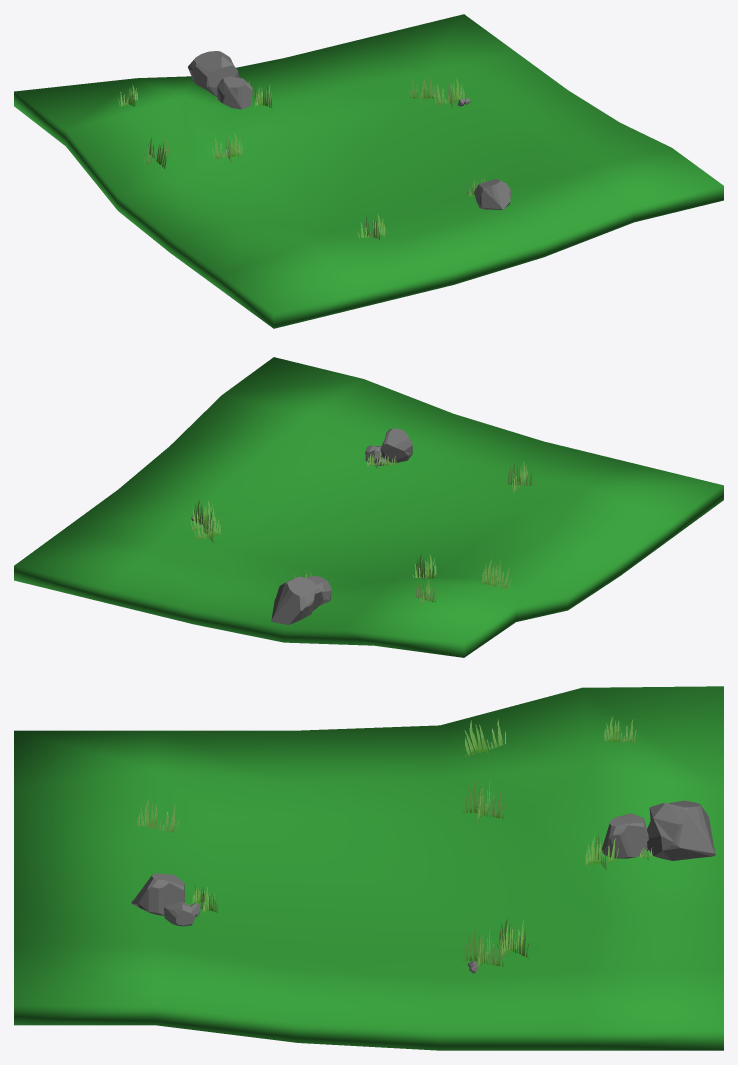
The model's file is Playable environment.fbx.
3 views of the same model, one above another, from view 1: azimuth 30°, elevation 25°; view 2: azimuth 150°, elevation 25°; view 3: azimuth 270°, elevation 25° (orthographic). The views are drawn at different scales.
Visible parts, largest first — view 1: Plane, Icosphere.004, Icosphere.003, Icosphere.019; view 2: Plane, Icosphere.004, Icosphere.019, Plane.003; view 3: Plane, Icosphere.004, Icosphere.003, Icosphere.019, Plane.009, Plane.002, Plane.003, Icosphere.001, Plane.006.
Part boxes in pixels (x1,y1,x2,y2): Plane: (14, 14, 723, 328); Icosphere.004: (188, 51, 238, 96); Icosphere.003: (217, 76, 252, 109); Icosphere.019: (474, 179, 510, 210); Plane: (14, 357, 723, 657); Icosphere.004: (271, 576, 323, 624); Icosphere.019: (380, 428, 412, 463); Plane.003: (479, 559, 511, 588); Plane: (14, 686, 723, 1050); Icosphere.004: (647, 800, 715, 860); Icosphere.003: (602, 813, 648, 858); Icosphere.019: (131, 873, 184, 915); Plane.009: (462, 780, 505, 823); Plane.002: (462, 928, 505, 971); Plane.003: (464, 719, 505, 757); Icosphere.001: (164, 901, 195, 926); Plane.006: (497, 918, 528, 958).
Bounding box in the file's own units: 1762 × 307 × 1762.
